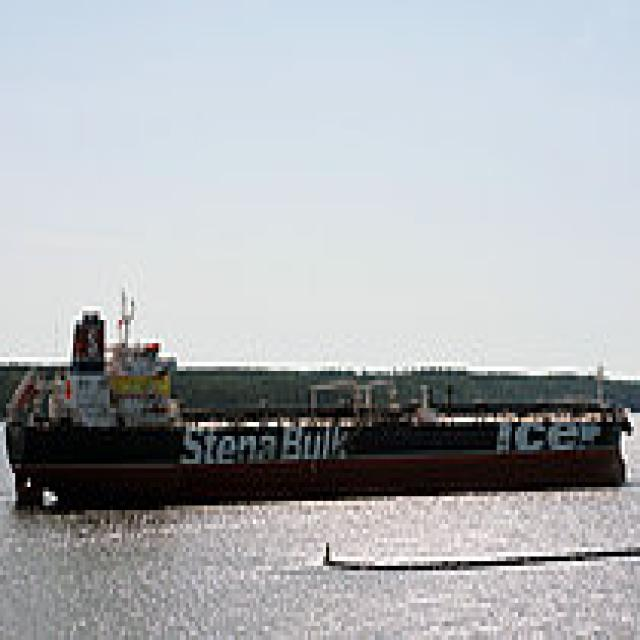Tanker: (0, 274, 631, 514)
